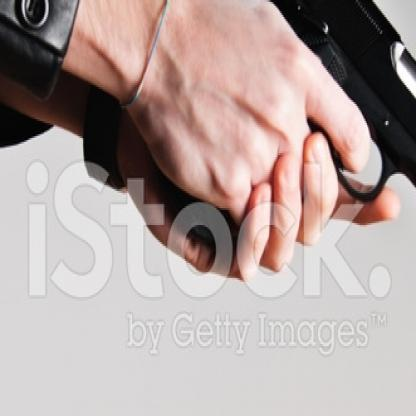gun: (193, 0, 414, 378)
